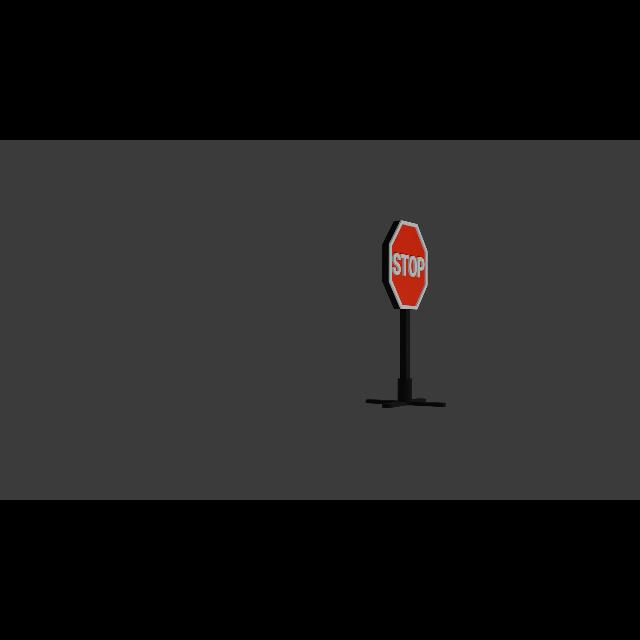sign_stop: (383, 221, 430, 311)
